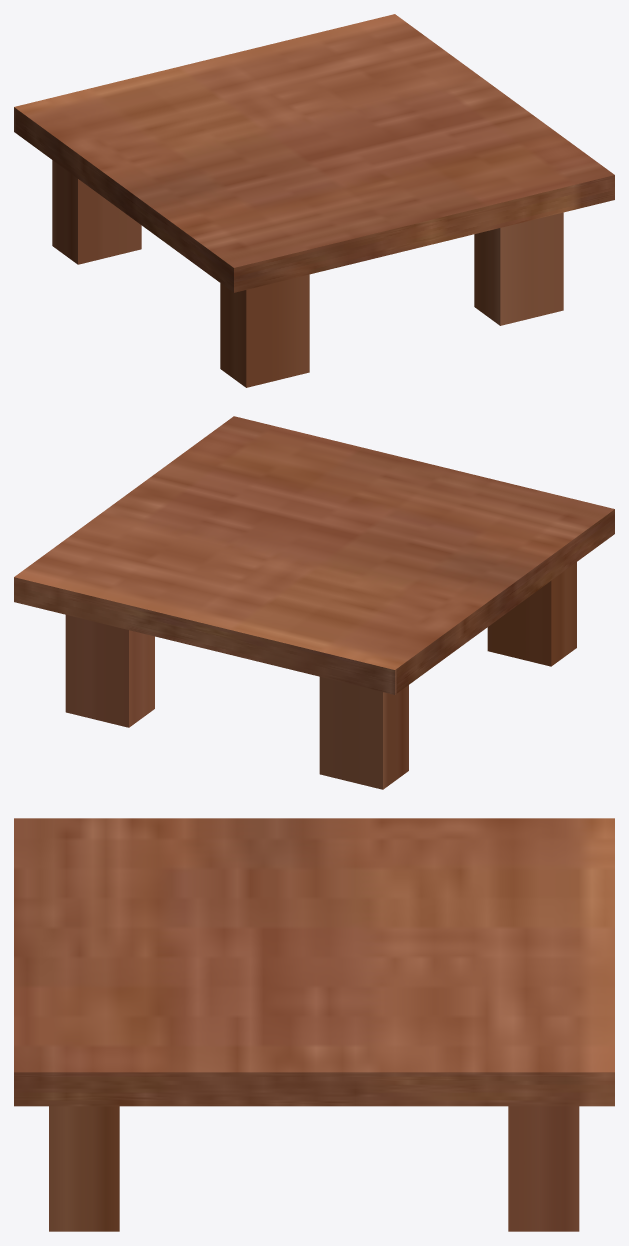
File: table.glb
3 renders of one model, top to bottom at view 1: azimuth 30°, elevation 25°; view 2: azimuth 150°, elevation 25°; view 3: azimuth 270°, elevation 25°, orthographic. The views are drawn at different scales.
Parts seen in each view (by area): view 1: Cube.005; view 2: Cube.005; view 3: Cube.005.
Boxes of the visible parts, box(x1,y1,x2,y2) form: Cube.005: box(14, 14, 614, 387); Cube.005: box(14, 416, 614, 789); Cube.005: box(14, 818, 614, 1231).
Bounding box in the file's own units: 16 × 5.43 × 16.
1 material, 1 textured.
